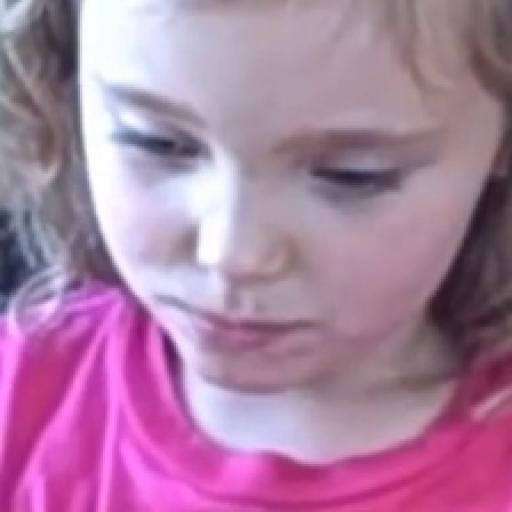Autism: (59, 24, 493, 409)
